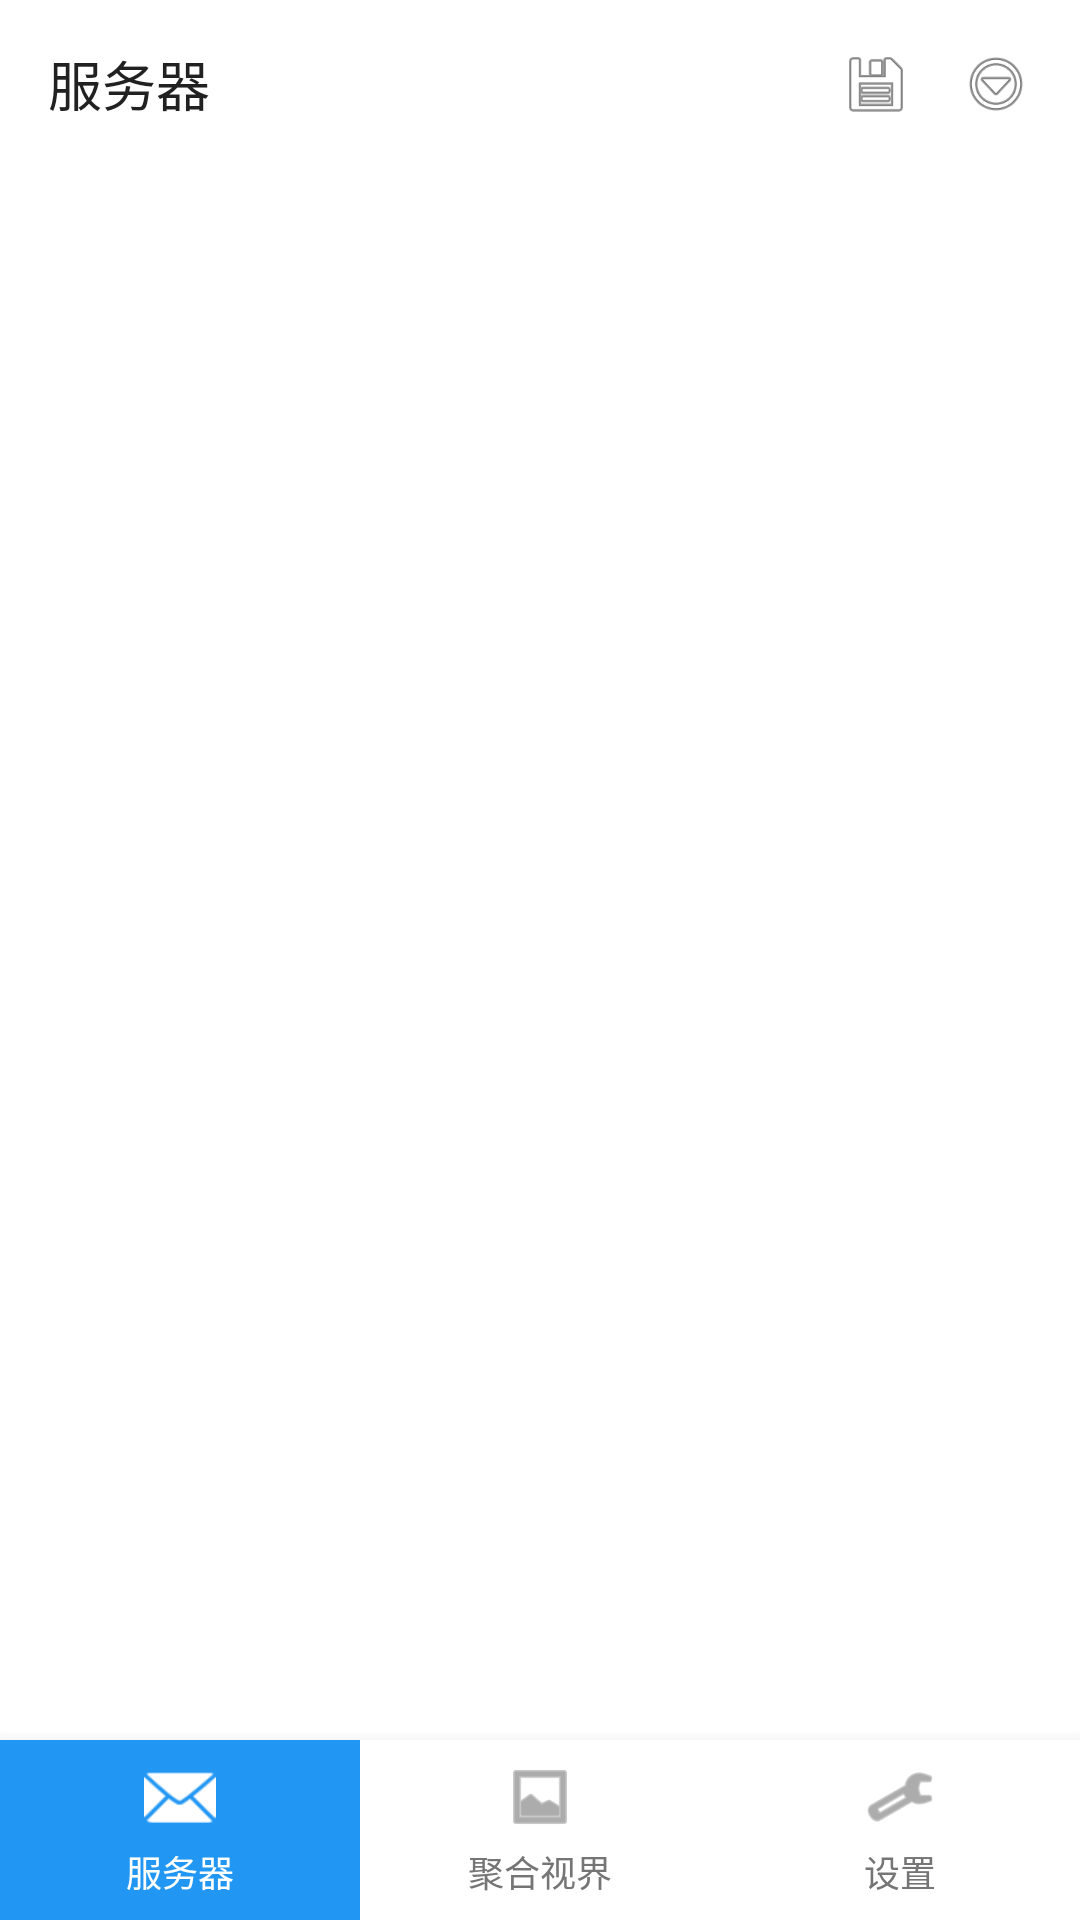

Screen size 1080x1920. Icon name, then its center in pixels as (x,y):
email: (180,1797)
gallery: (540,1797)
more: (996,84)
save: (876,84)
